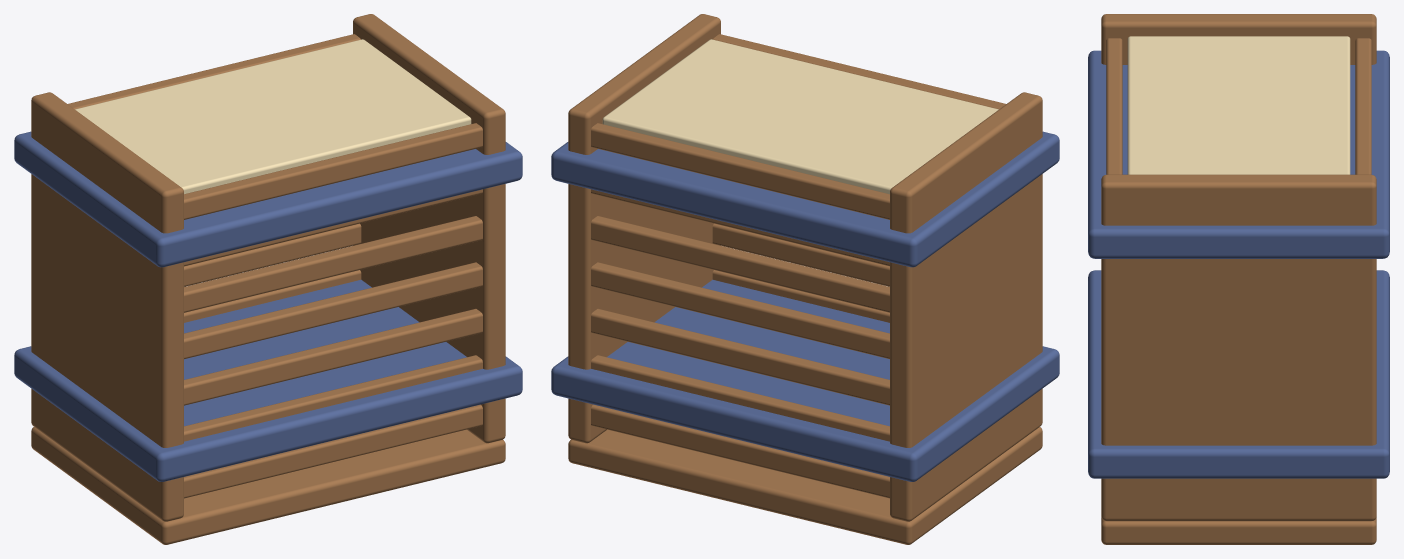
File: pannier.glb
The picture shows the model from 3 angles, left to right: view 1: azimuth 30°, elevation 25°; view 2: azimuth 150°, elevation 25°; view 3: azimuth 270°, elevation 25°; orthographic projection. The views are drawn at different scales.
Parts seen in each view (by area): view 1: cargo-pannier; view 2: cargo-pannier; view 3: cargo-pannier.
Part boxes in pixels (<box>): cargo-pannier: <box>14,14,522,544</box>; cargo-pannier: <box>551,14,1059,544</box>; cargo-pannier: <box>1088,14,1389,544</box>.
Bounding box in the file's own units: 0.66 × 0.61 × 0.46.
